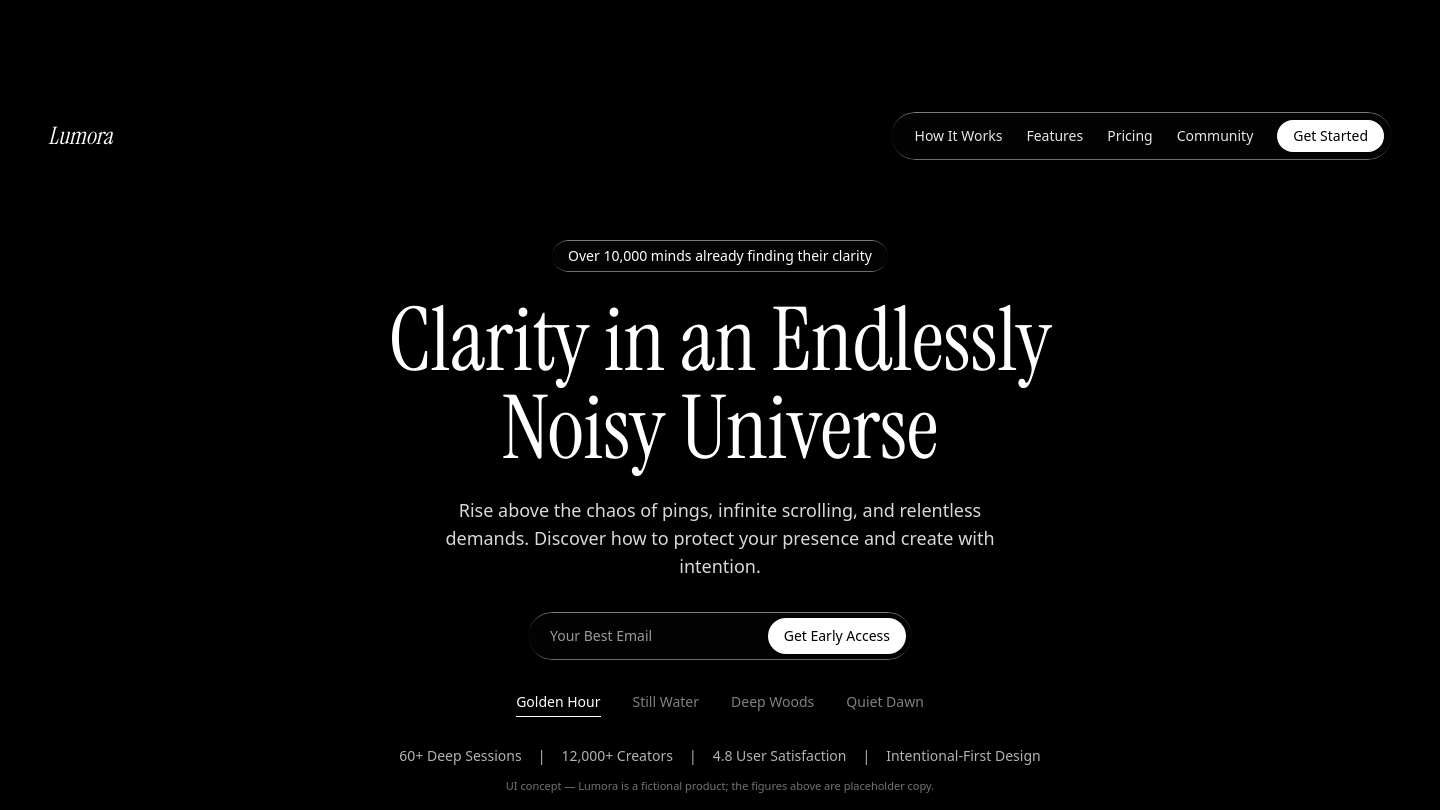
Test: LumoraShowcase › is labelled as a concept and never stores the email
The image size is (1440, 810).
Check: the text "UI concept" is shown, box [506,778,934,792]
Type "a@b.co" into the field labelled "Your Best Email" at [647, 636], box [534,626,760,646]
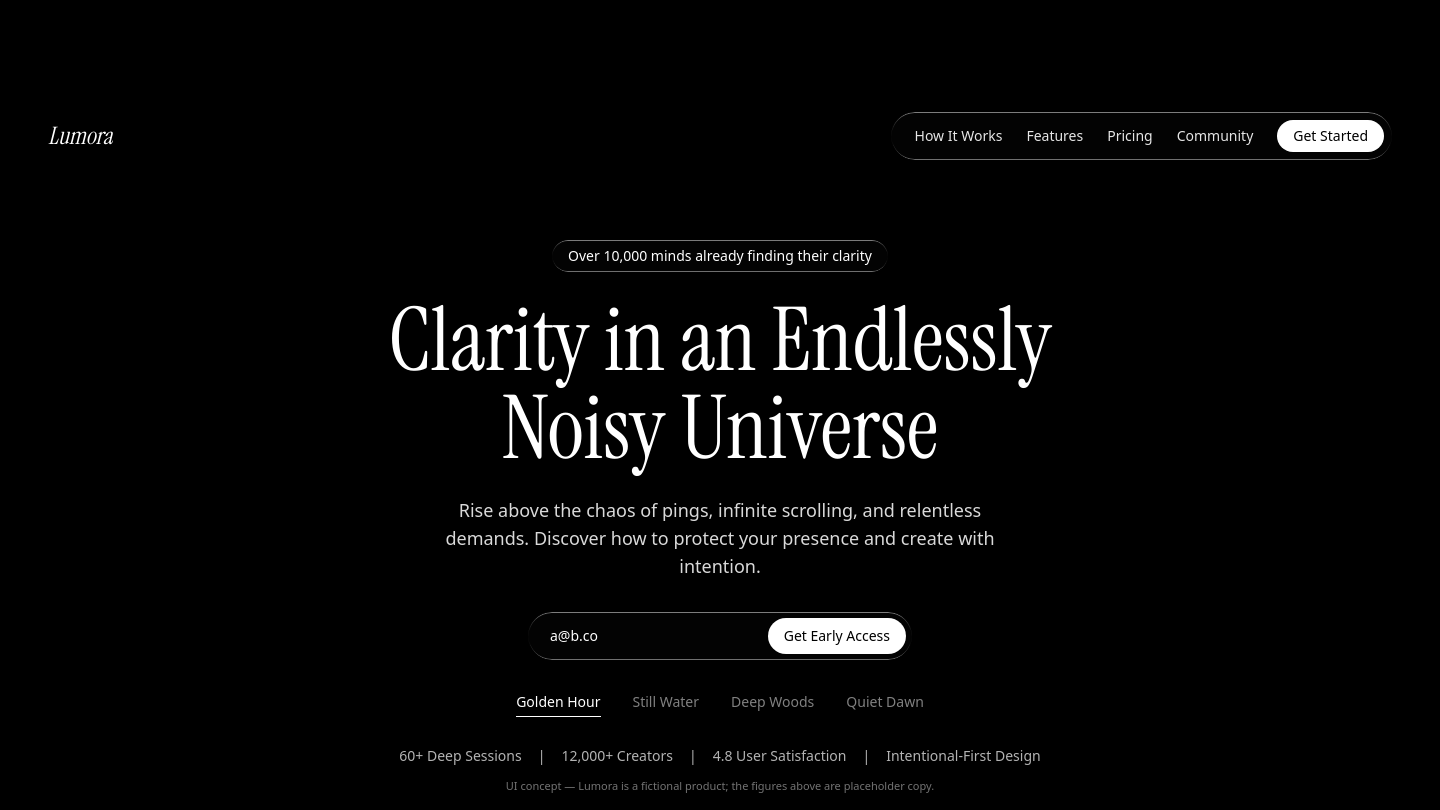
Click the button "Get Early Access" at [837, 636], box [768,618,906,654]
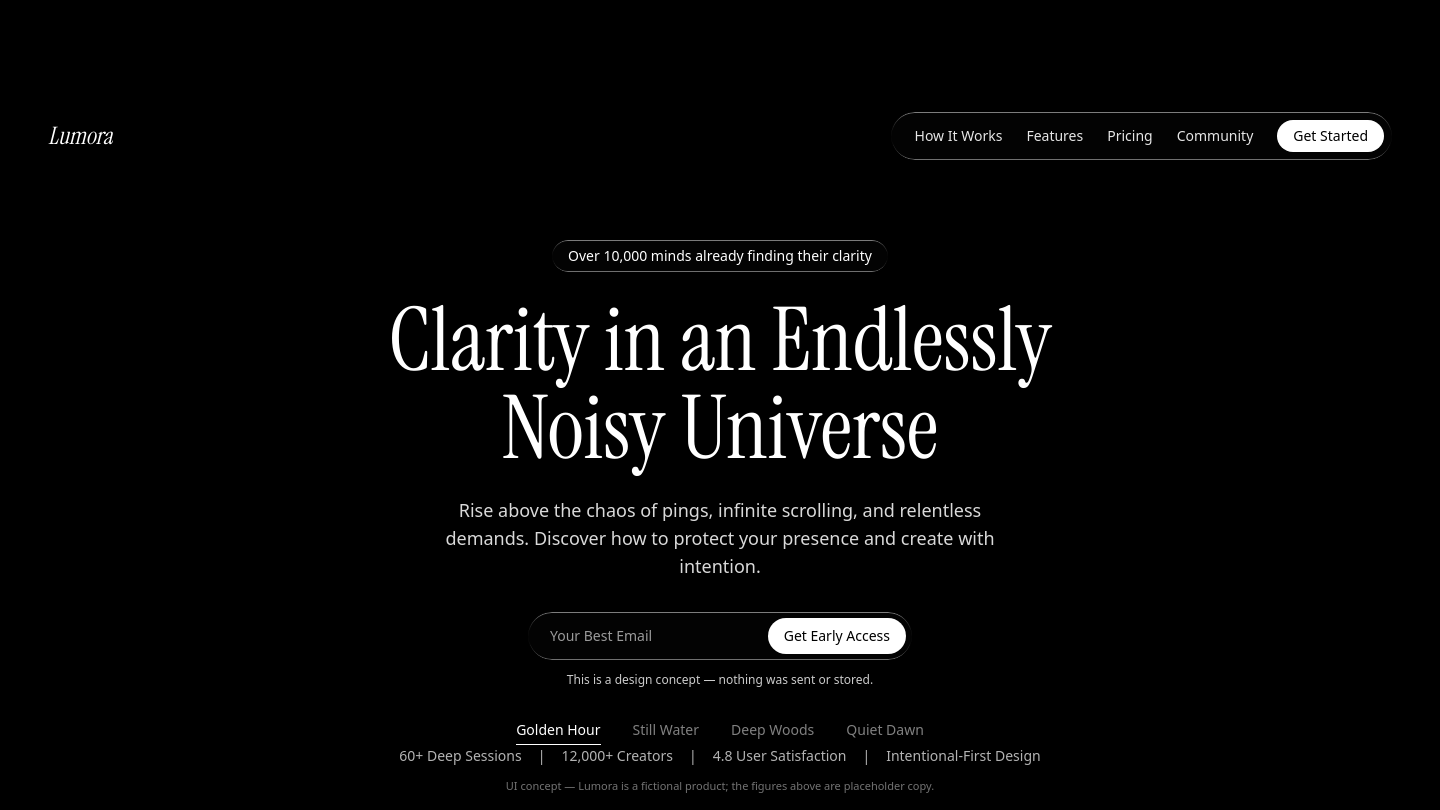
Check: the message shows "nothing was sent or stored", box [567,671,873,688]
